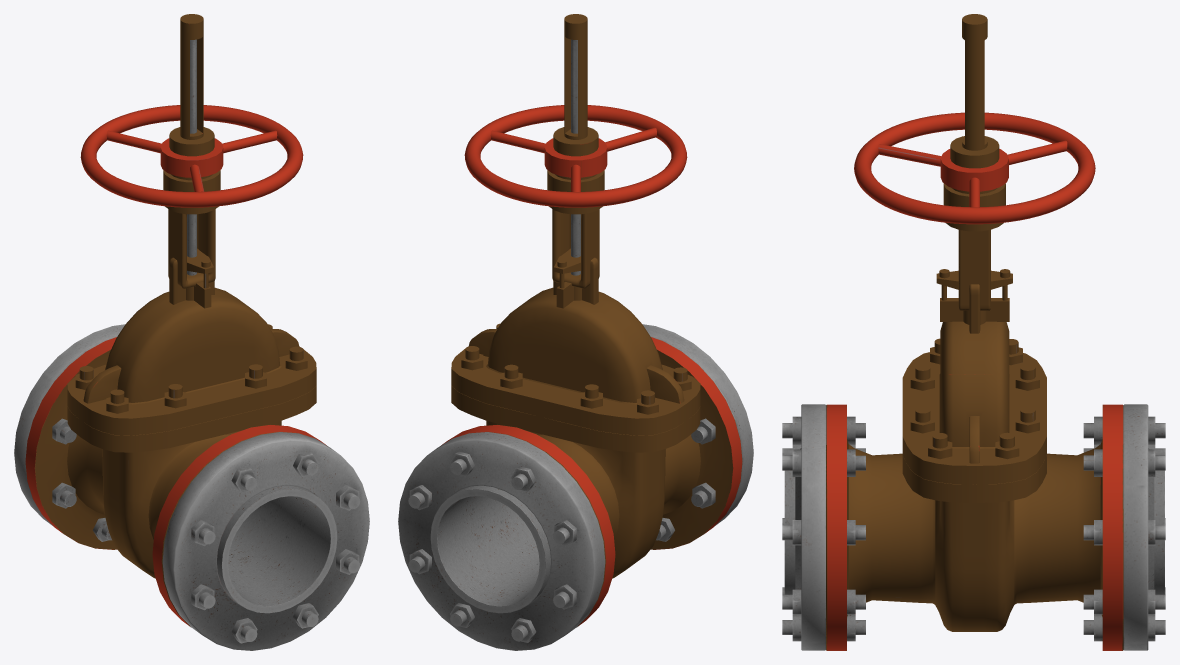
File: valve.glb
3 views of the same model, side by side, from view 1: azimuth 30°, elevation 25°; view 2: azimuth 150°, elevation 25°; view 3: azimuth 270°, elevation 25° (orthographic). The views are drawn at different scales.
Parts seen in each view (by area): view 1: zadvijka_low; view 2: zadvijka_low; view 3: zadvijka_low.
Part boxes in pixels (left/top/right/bottom): zadvijka_low: left=14, top=14, right=369, bottom=650; zadvijka_low: left=398, top=14, right=753, bottom=650; zadvijka_low: left=782, top=14, right=1165, bottom=650.
Size of the model in its own units: 0.2516 by 0.6172 by 0.3456.
1 material, 1 textured.
